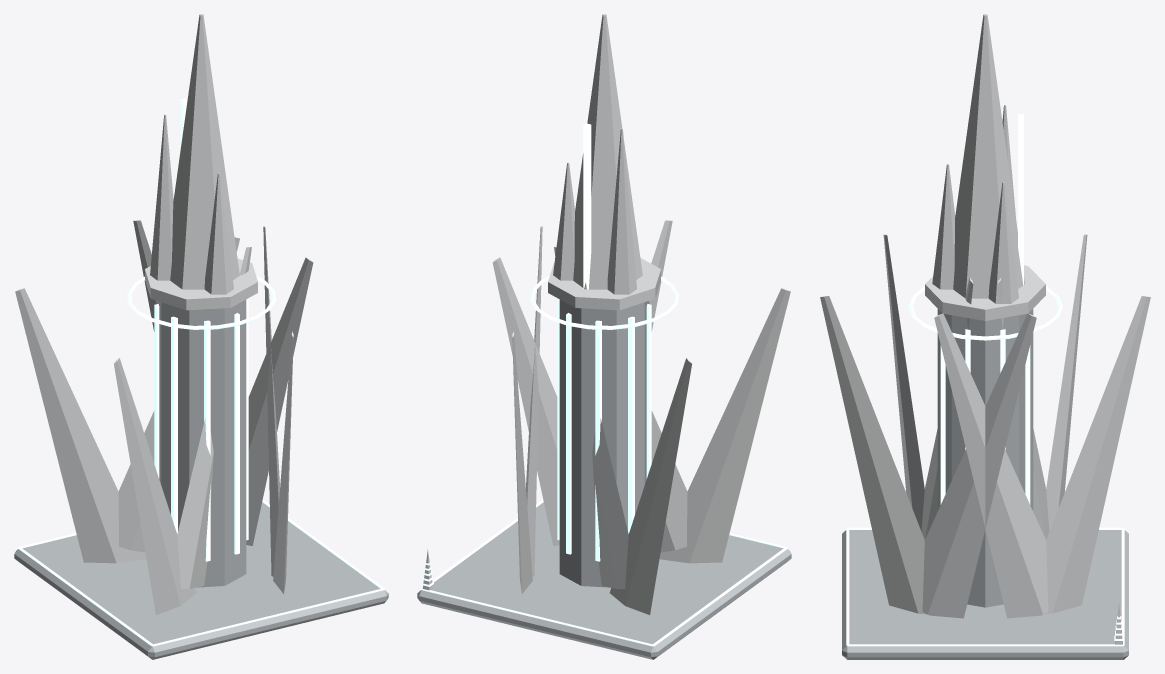
File: zone_high_2_t5.glb
3 renders of one model, left to right at view 1: azimuth 30°, elevation 25°; view 2: azimuth 150°, elevation 25°; view 3: azimuth 270°, elevation 25°, orthographic. The views are drawn at different scales.
Visible parts, largest first — view 1: zone_high_2_t5, detail; view 2: zone_high_2_t5, detail; view 3: zone_high_2_t5, detail.
Part boxes in pixels (x1,y1,x2,y2): zone_high_2_t5: [14, 14, 388, 659]; detail: [18, 499, 384, 646]; zone_high_2_t5: [417, 14, 791, 659]; detail: [421, 499, 787, 646]; zone_high_2_t5: [820, 14, 1150, 659]; detail: [846, 527, 1124, 646].
Size of the model in its own units: 29.42 by 64.66 by 31.71.
